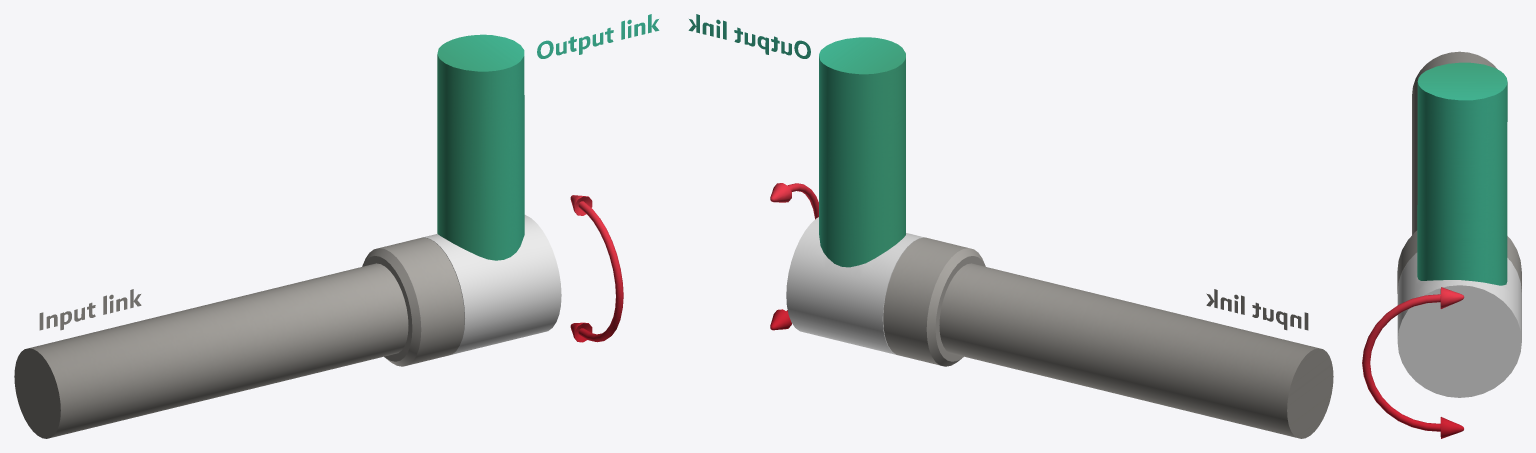
The model's file is RevolvingJoint.fbx.
3 renders of one model, left to right at view 1: azimuth 30°, elevation 25°; view 2: azimuth 150°, elevation 25°; view 3: azimuth 270°, elevation 25°, orthographic. The views are drawn at different scales.
Visible parts, largest first — view 1: RevolvingJointInputLink, RevolvingJointOutputLink1, RevolvingJointArrow; view 2: RevolvingJointInputLink, RevolvingJointOutputLink1, RevolvingJointArrow; view 3: RevolvingJointOutputLink1, RevolvingJointArrow, RevolvingJointInputLink.
Boxes of the visible parts, x1,y1,x2,y2 form: RevolvingJointInputLink: (14,237,464,438); RevolvingJointOutputLink1: (423,14,659,354); RevolvingJointArrow: (570,195,623,342); RevolvingJointInputLink: (883,237,1333,438); RevolvingJointOutputLink1: (688,14,924,354); RevolvingJointArrow: (770,183,818,330); RevolvingJointOutputLink1: (1397,62,1521,397); RevolvingJointArrow: (1362,287,1464,438); RevolvingJointInputLink: (1397,51,1521,293).
Size of the model in its own units: 216 by 101 by 47.07.
